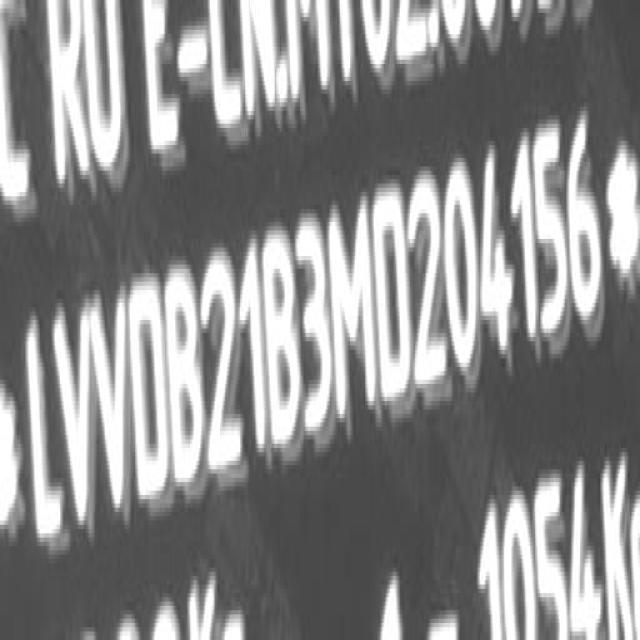0: (445, 153, 480, 392)
1: (510, 125, 538, 354), (242, 218, 266, 477)
2: (203, 253, 246, 486), (410, 170, 448, 407)
3: (295, 205, 335, 438)
4: (478, 138, 514, 370)
5: (534, 117, 569, 353)
6: (566, 114, 604, 336)
B: (262, 226, 302, 455), (166, 264, 203, 496)
D: (128, 274, 170, 506), (377, 182, 416, 416)
L: (24, 313, 62, 553)
M: (331, 199, 377, 430)
V: (91, 289, 134, 525), (55, 297, 93, 537)
